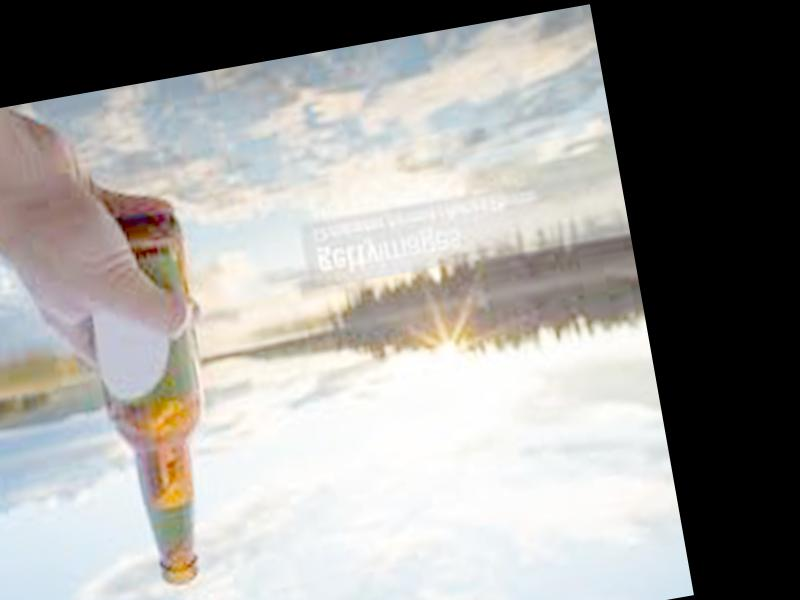Beer: (72, 212, 244, 592)
